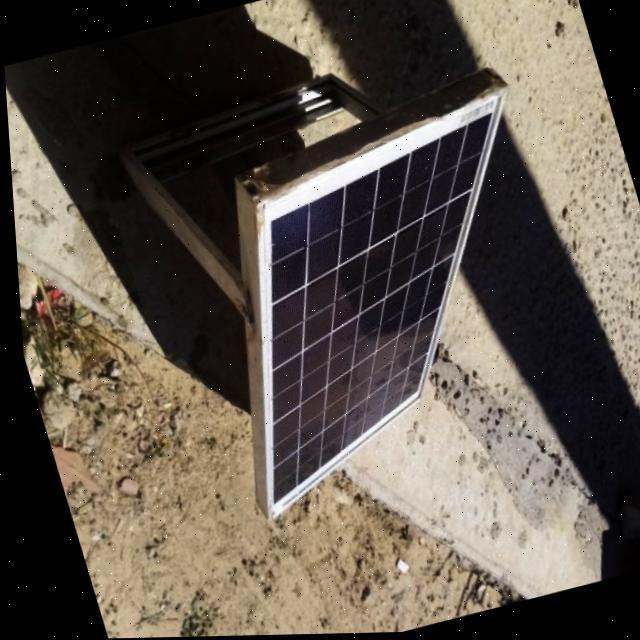Normal Solar Panel: (159, 95, 602, 522)
